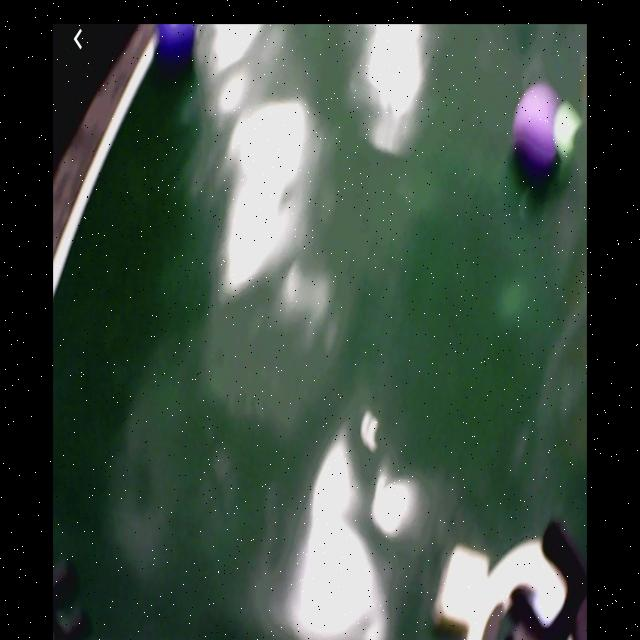ball: (516, 89, 562, 163), (157, 25, 199, 61)
